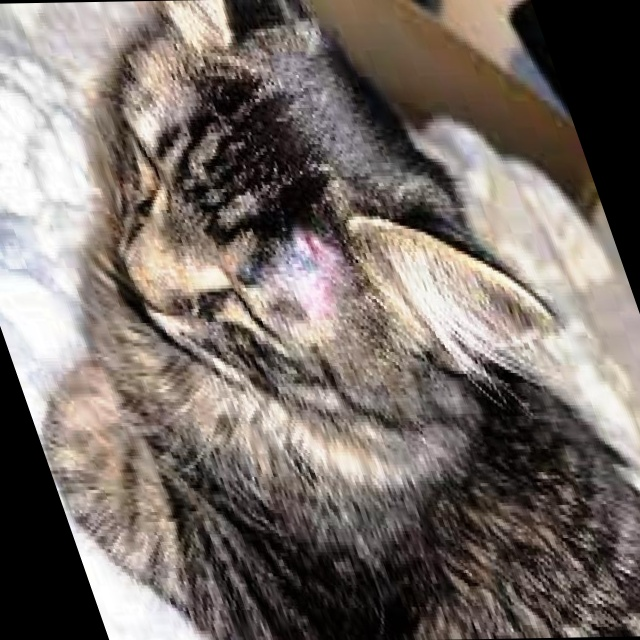ringworm: (247, 218, 380, 351)
